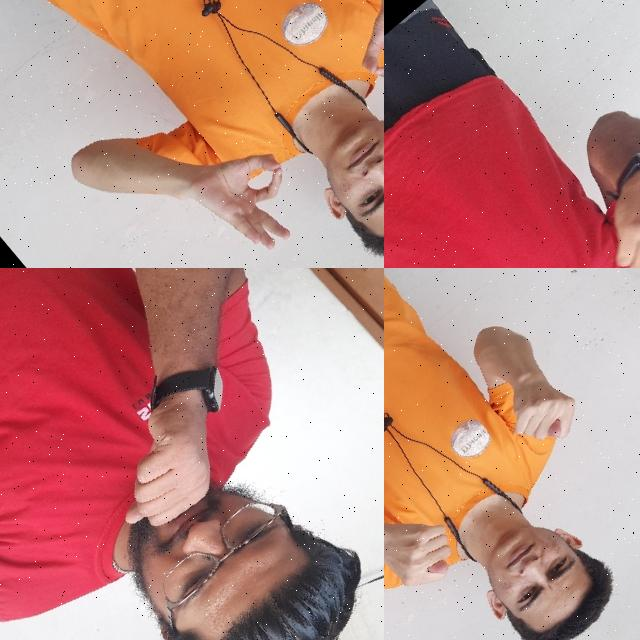Dulya: (475, 341, 600, 466), (384, 478, 479, 609)
Fist Mouth: (24, 359, 384, 640)
Okay: (174, 115, 331, 268), (332, 0, 384, 126)
Reversed Victory: (567, 147, 640, 268)
